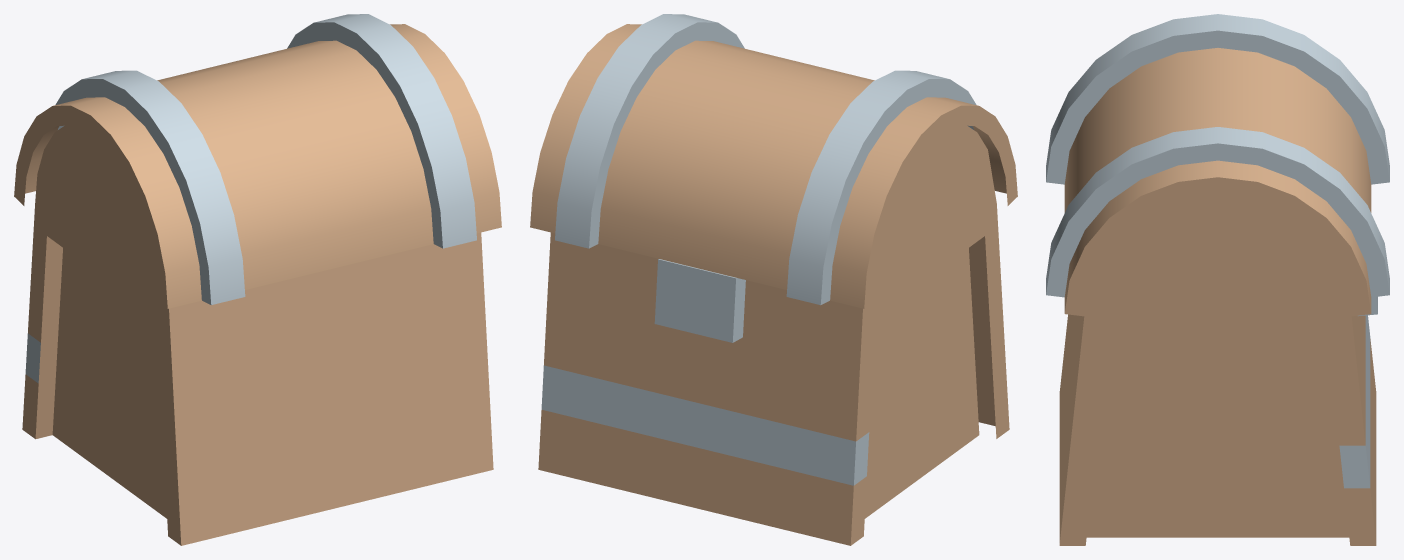
Rendered from Chest.fbx.
3 views of the same model, side by side, from view 1: azimuth 30°, elevation 25°; view 2: azimuth 150°, elevation 25°; view 3: azimuth 270°, elevation 25° (orthographic).
Parts seen in each view (by area): view 1: chest; view 2: chest; view 3: chest.
Part boxes in pixels (x1=…): chest: x1=14, y1=14, x2=501, y2=545; chest: x1=530, y1=14, x2=1017, y2=545; chest: x1=1046, y1=14, x2=1389, y2=545.
Size of the model in its own units: 490 by 549 by 438.
